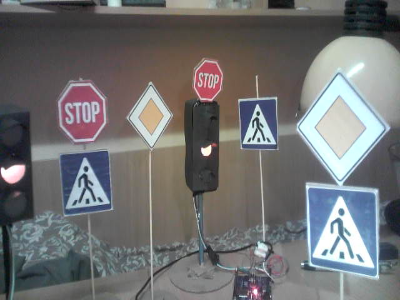crosswalk: (307, 185, 378, 278), (60, 155, 111, 211), (240, 99, 278, 150)
priority_road: (298, 74, 388, 184), (128, 84, 172, 148)
stop: (59, 82, 107, 142), (194, 62, 222, 102)
